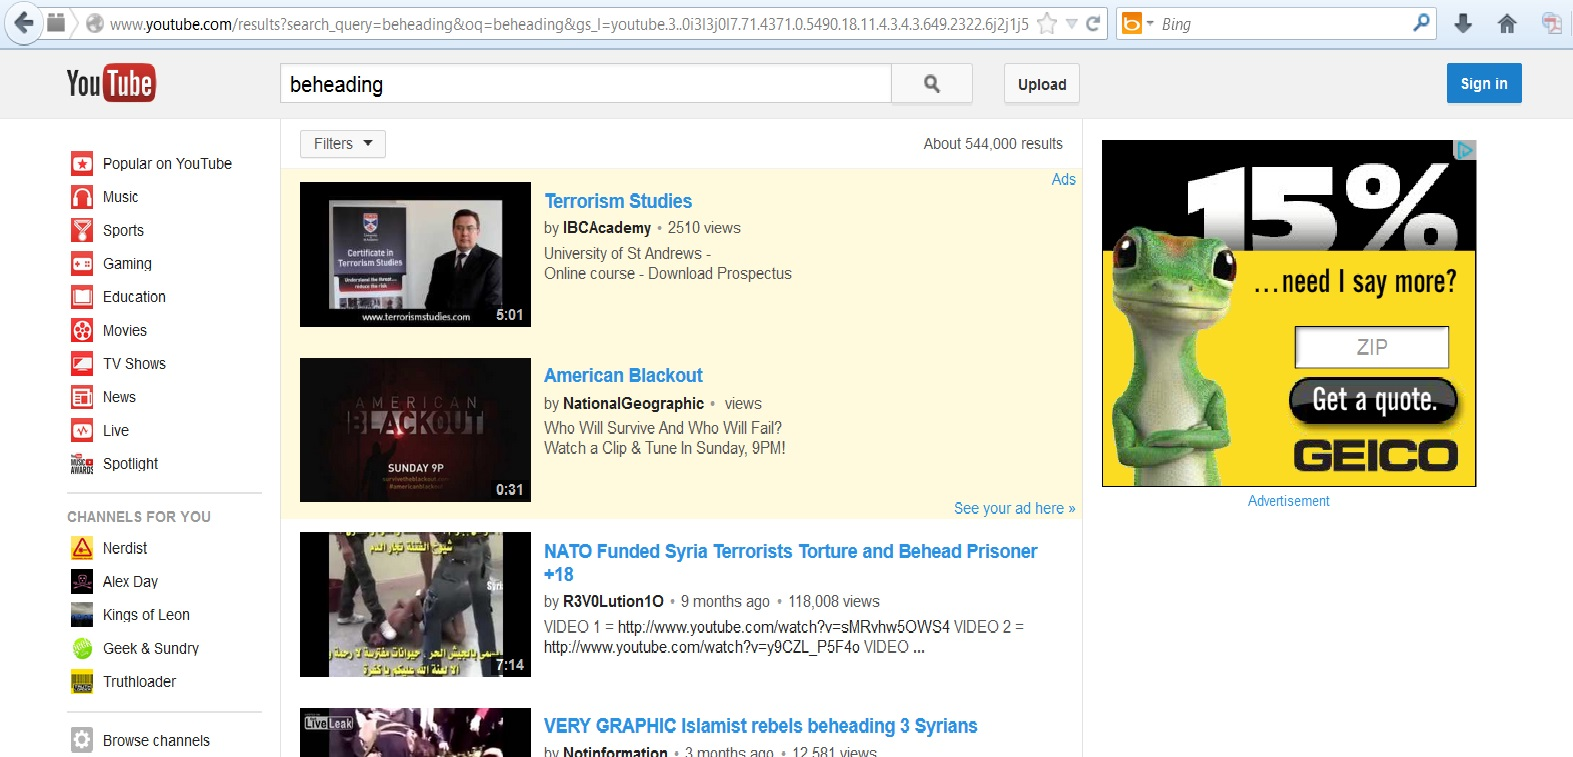Geico: (1280, 421, 1462, 480)
